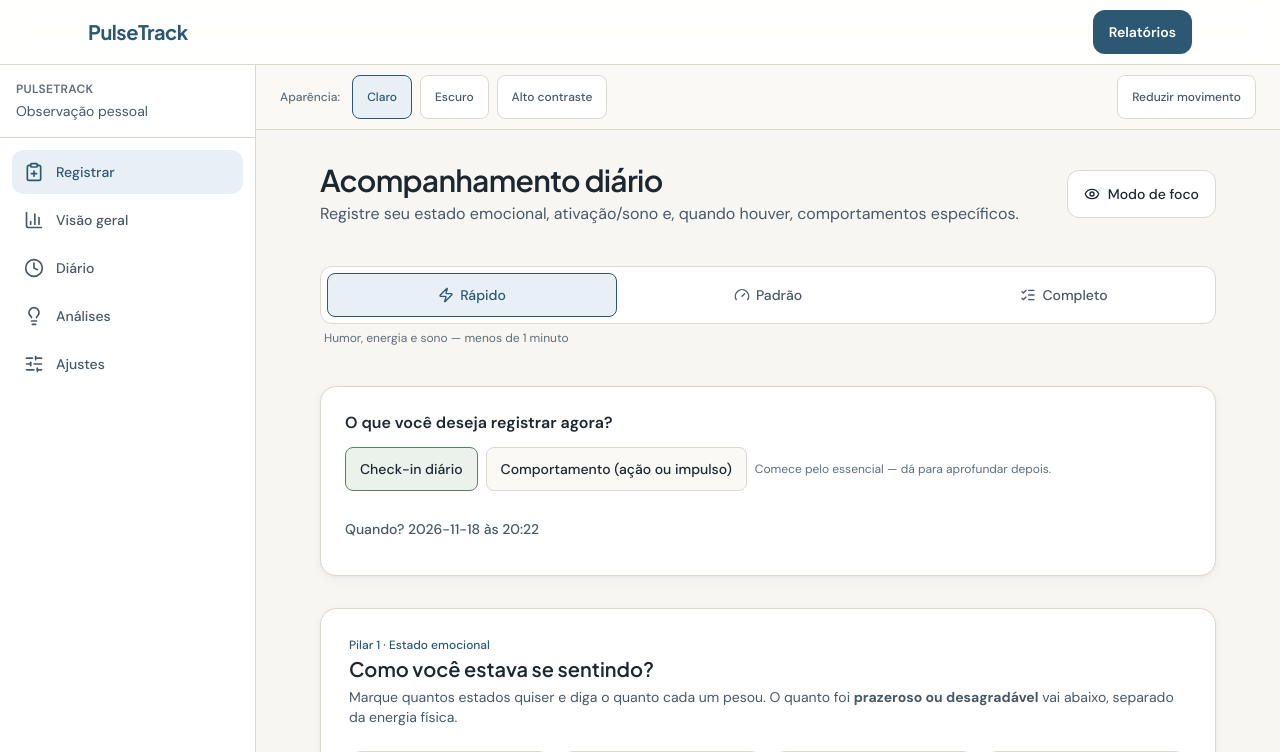
App — dados de exemplo › carrega direto em uma instalação sem registros e identifica os exemplos
Click the button "Visão geral" at [128, 220], box [12,198,243,242]
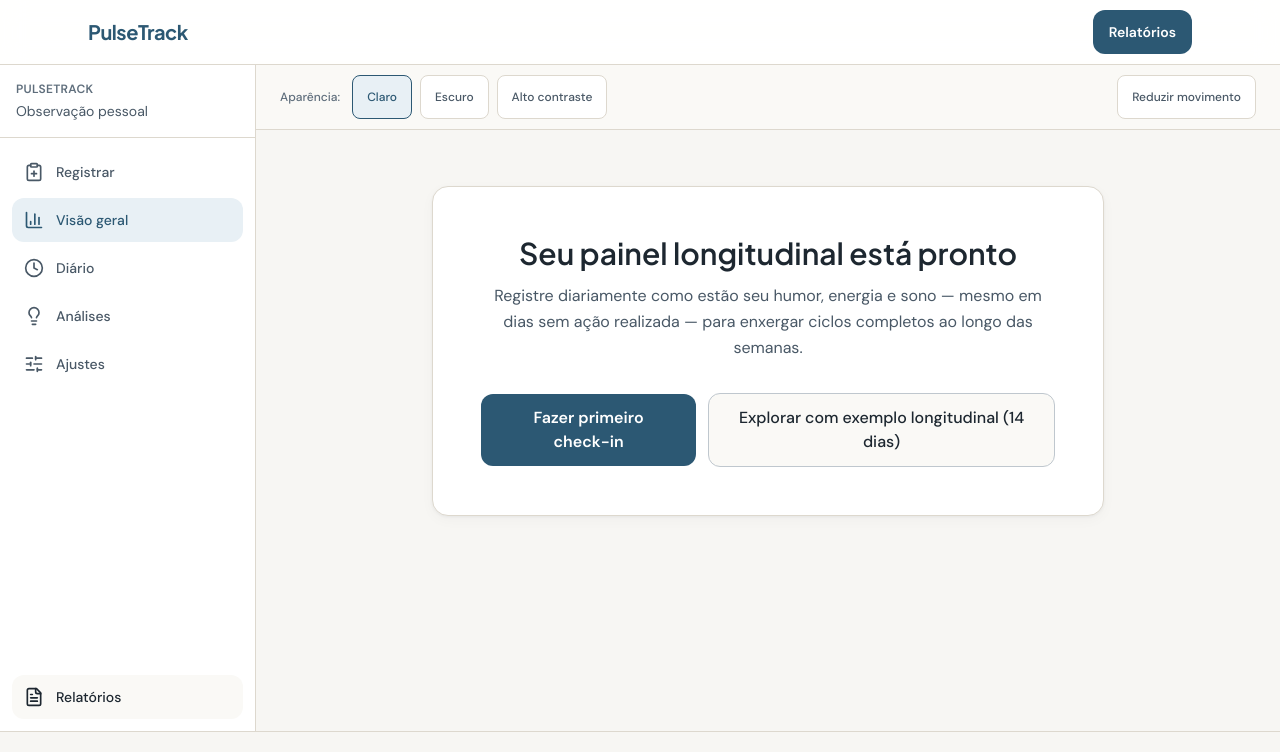
Click the button "Explorar com exemplo longitudinal (14 dias)" at [882, 430], box [708,393,1055,467]
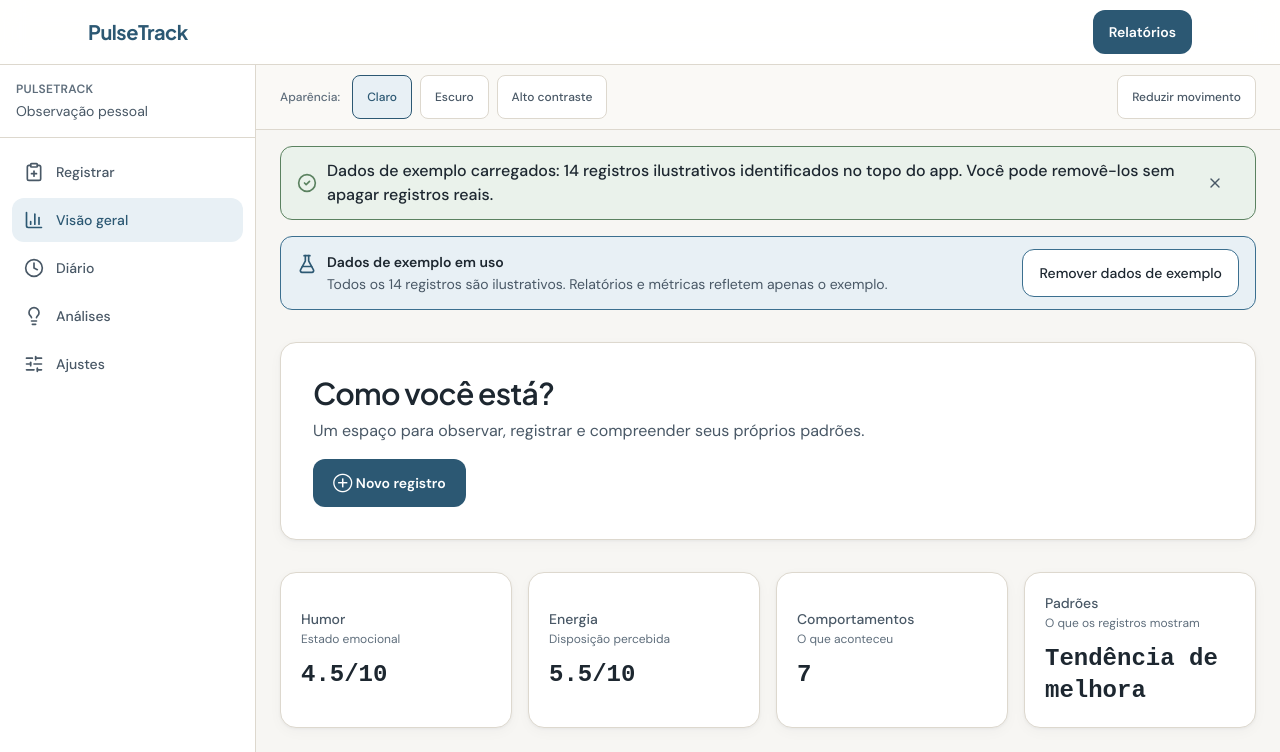
Result: the text "Dados de exemplo em uso" is shown at [327,253,504,271]
Result: the text "Todos os 14 registros são ilustrativos" is shown at [327,275,887,293]
